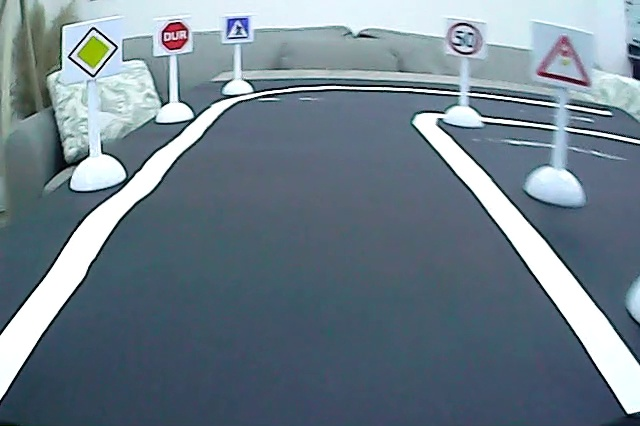pedestrian crossing: (225, 16, 251, 42)
red light: (533, 29, 596, 92)
speed limit 50: (445, 21, 485, 57)
stop sign: (158, 21, 191, 53)
